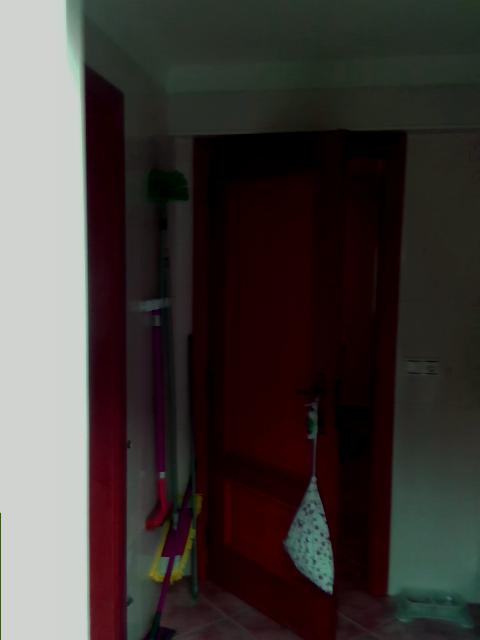semi_door: (190, 127, 406, 639)
